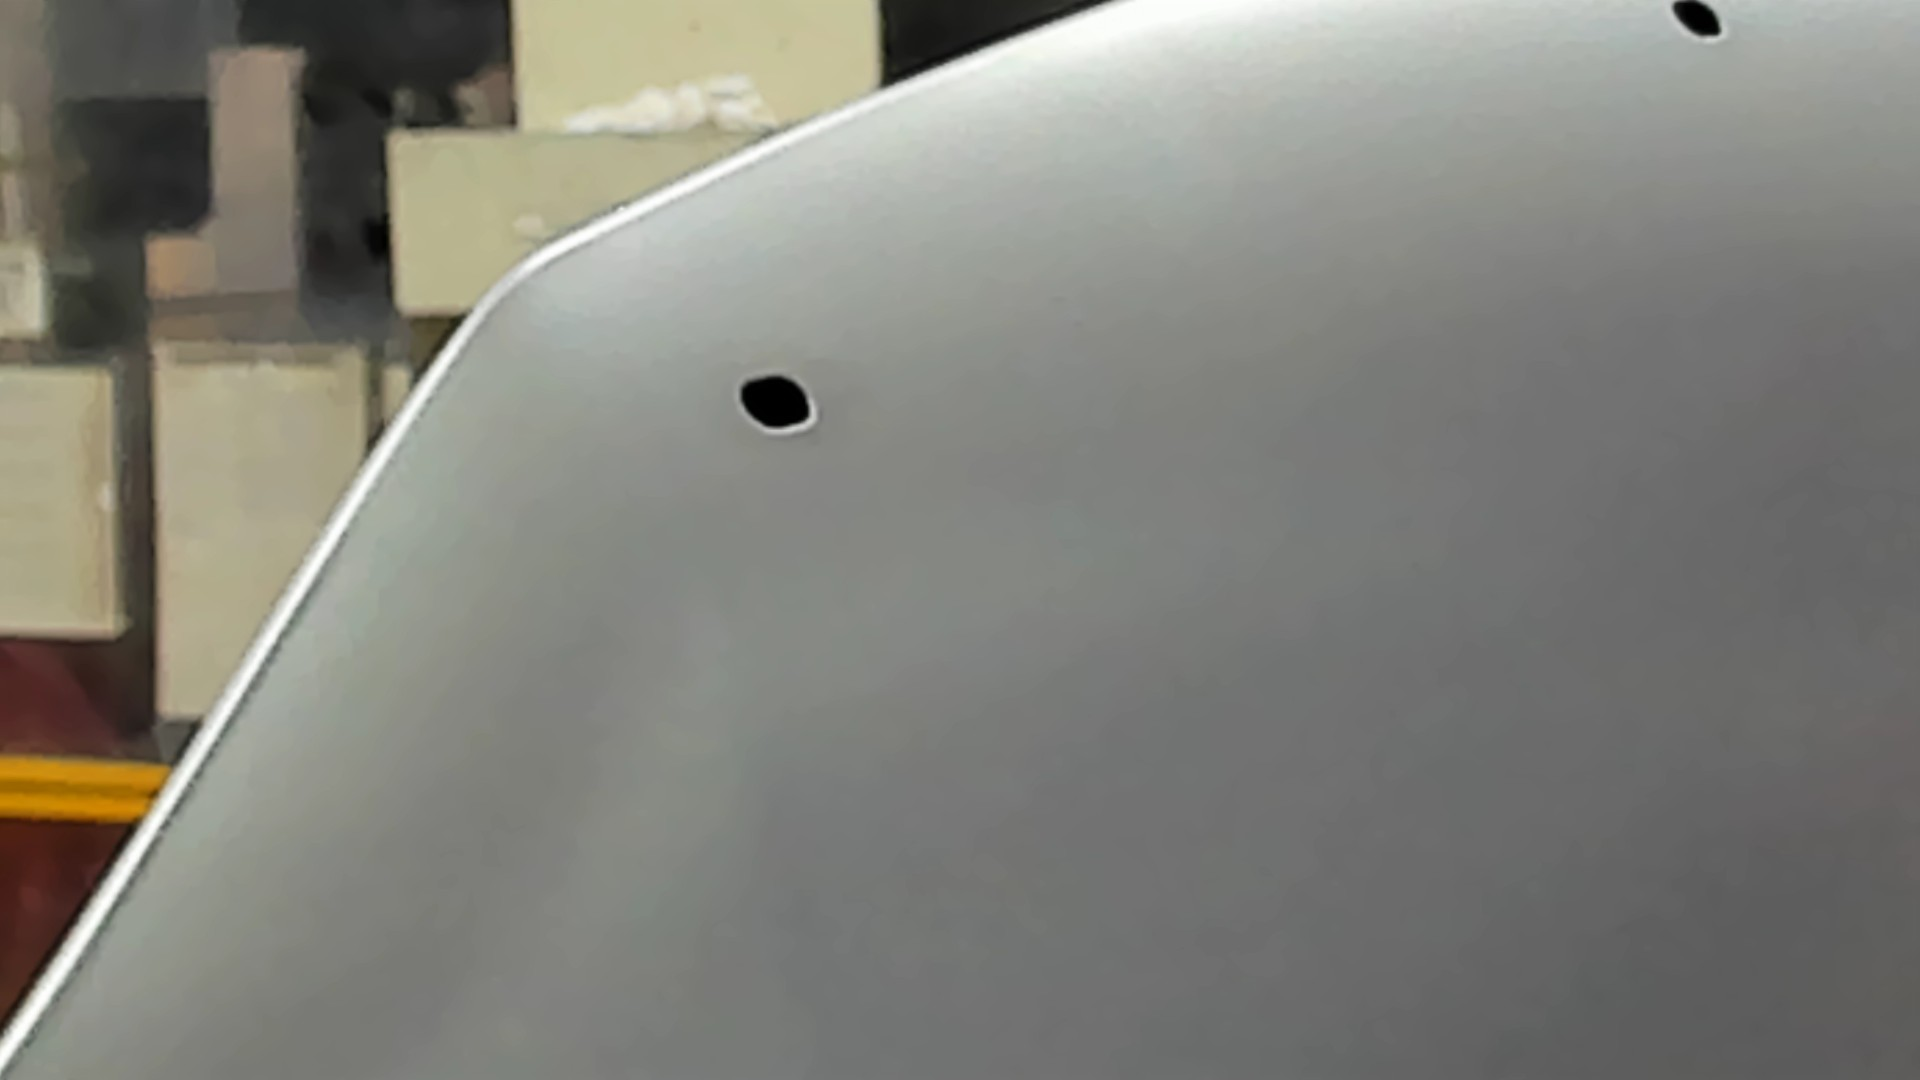amorfo: (731, 364, 829, 442), (1659, 1, 1735, 47)
